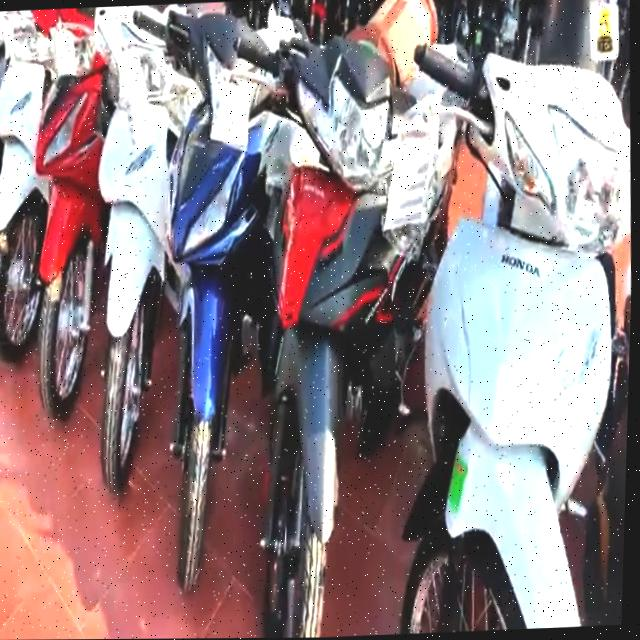motorcycle: (390, 30, 639, 633), (220, 23, 435, 638), (140, 16, 286, 586), (70, 14, 194, 492), (3, 17, 120, 423)
